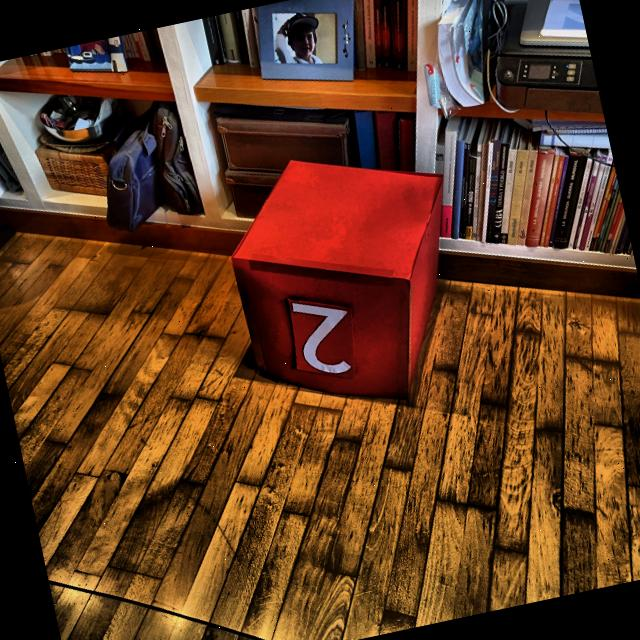red box: (208, 126, 492, 432)
two: (288, 290, 362, 384)
